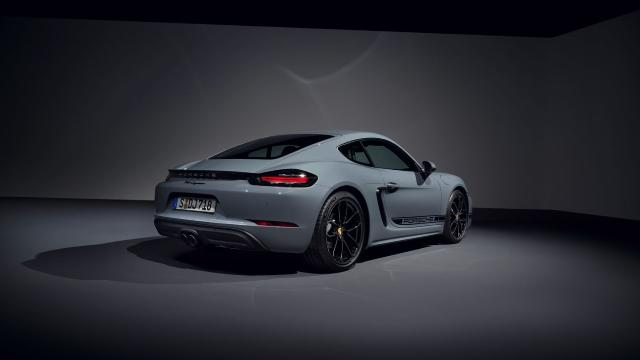porsche: (153, 130, 473, 272)
